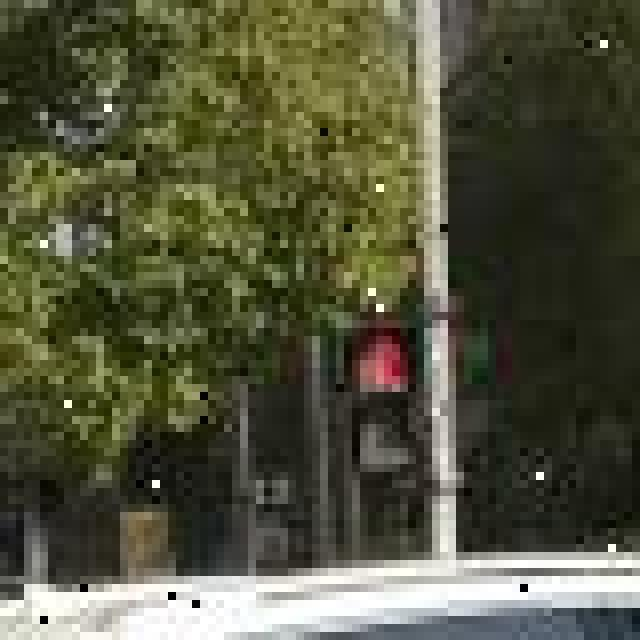redlight: (328, 320, 432, 480)
